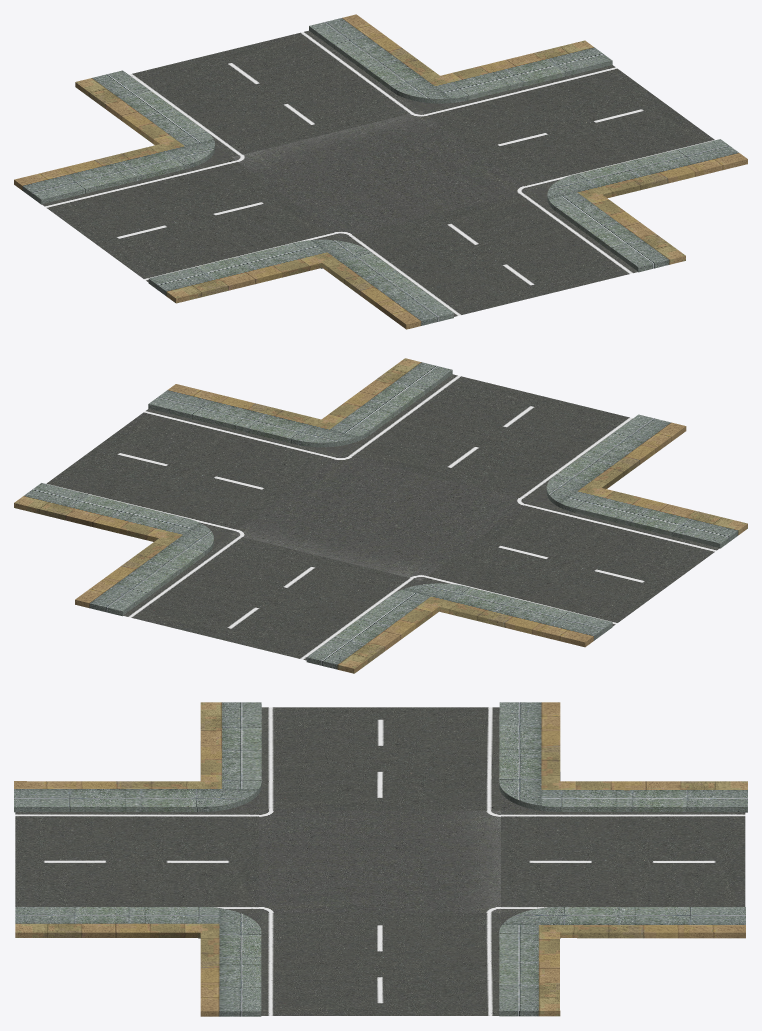
Rendered from road A.FBX.
3 views of the same model, one above another, from view 1: azimuth 30°, elevation 25°; view 2: azimuth 150°, elevation 25°; view 3: azimuth 270°, elevation 25° (orthographic). The views are drawn at different scales.
Parts seen in each view (by area): view 1: Box002; view 2: Box002; view 3: Box002.
Boxes of the visible parts, box(x1,y1,x2,y2) form: Box002: box(14, 14, 747, 329); Box002: box(14, 358, 747, 673); Box002: box(14, 702, 747, 1016).
Size of the model in its own units: 300 by 2.5 by 301.
